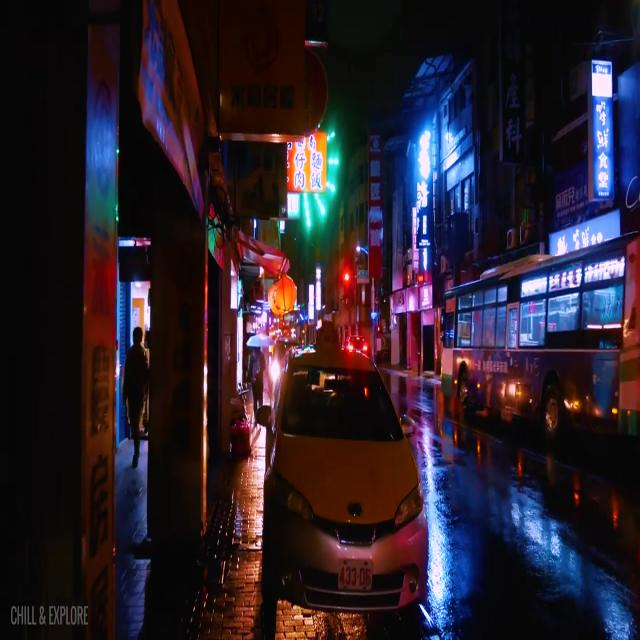Car: (262, 352, 425, 610)
